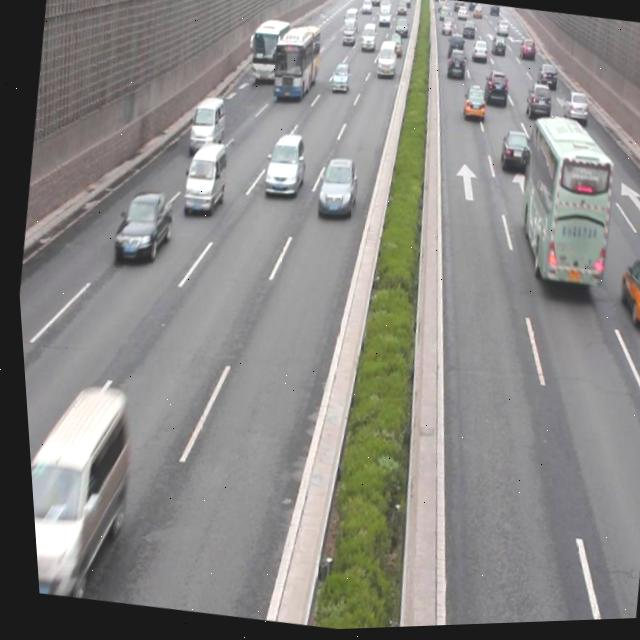car: (107, 189, 174, 263), (258, 132, 308, 204), (311, 157, 360, 225), (611, 250, 640, 338), (493, 134, 531, 181), (521, 85, 551, 126), (558, 96, 588, 131), (459, 89, 485, 125)
truck: (20, 373, 140, 602), (176, 140, 230, 223), (185, 95, 229, 164)
van: (503, 116, 622, 298), (267, 21, 326, 104)
